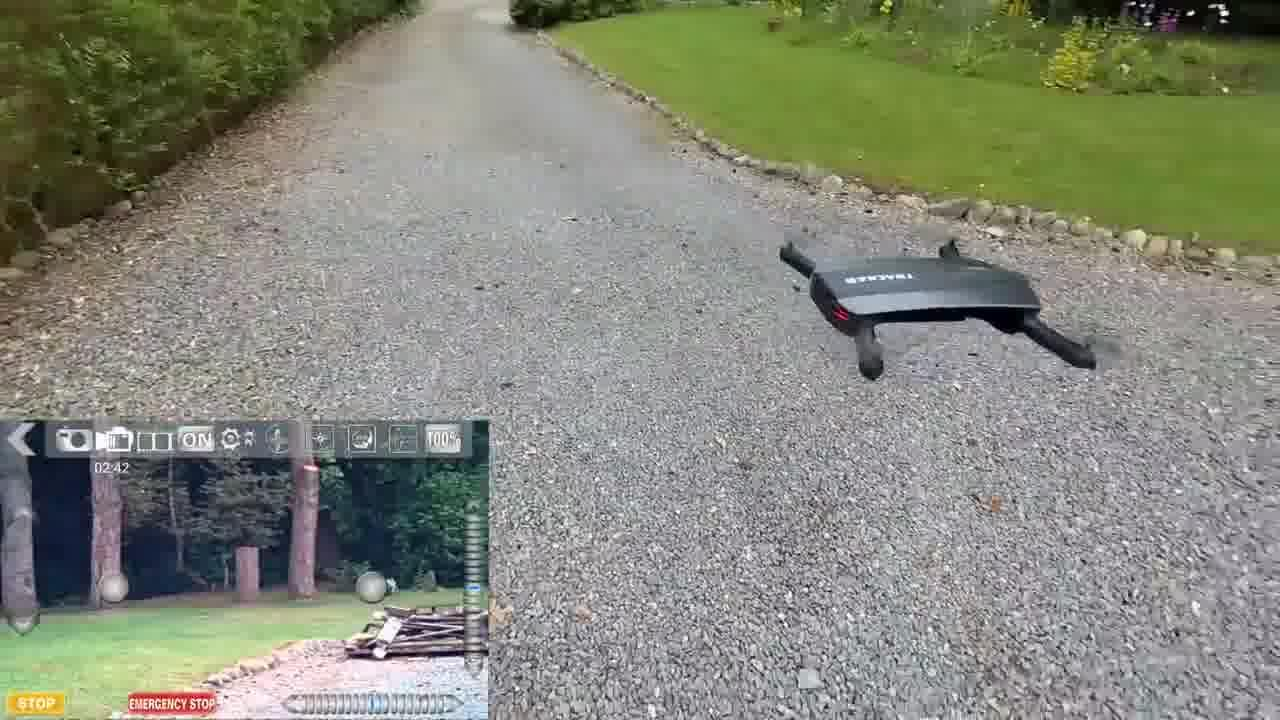drone: (739, 218, 1107, 400)
